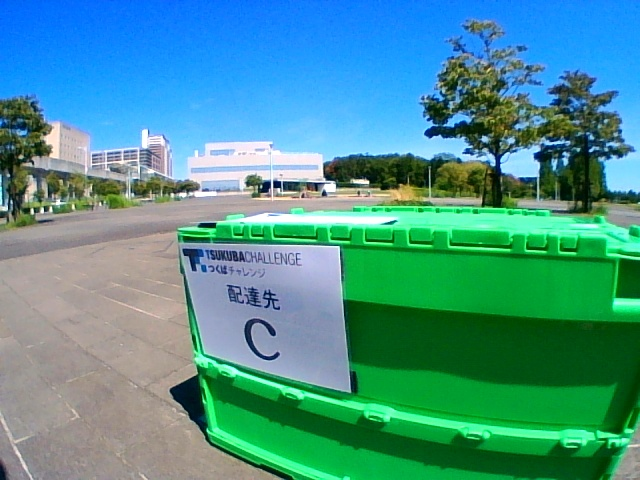green_box: (177, 205, 640, 480)
tag_c: (217, 254, 330, 362)
